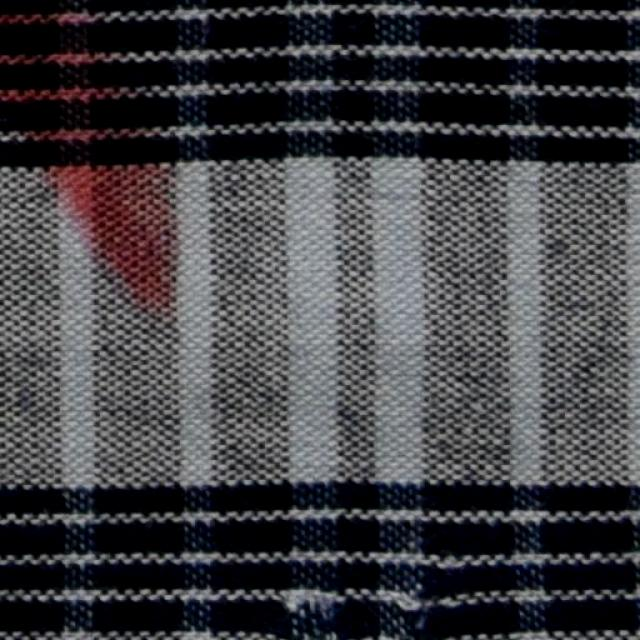Snag: (287, 556, 463, 639)
Stain: (0, 0, 180, 321)
